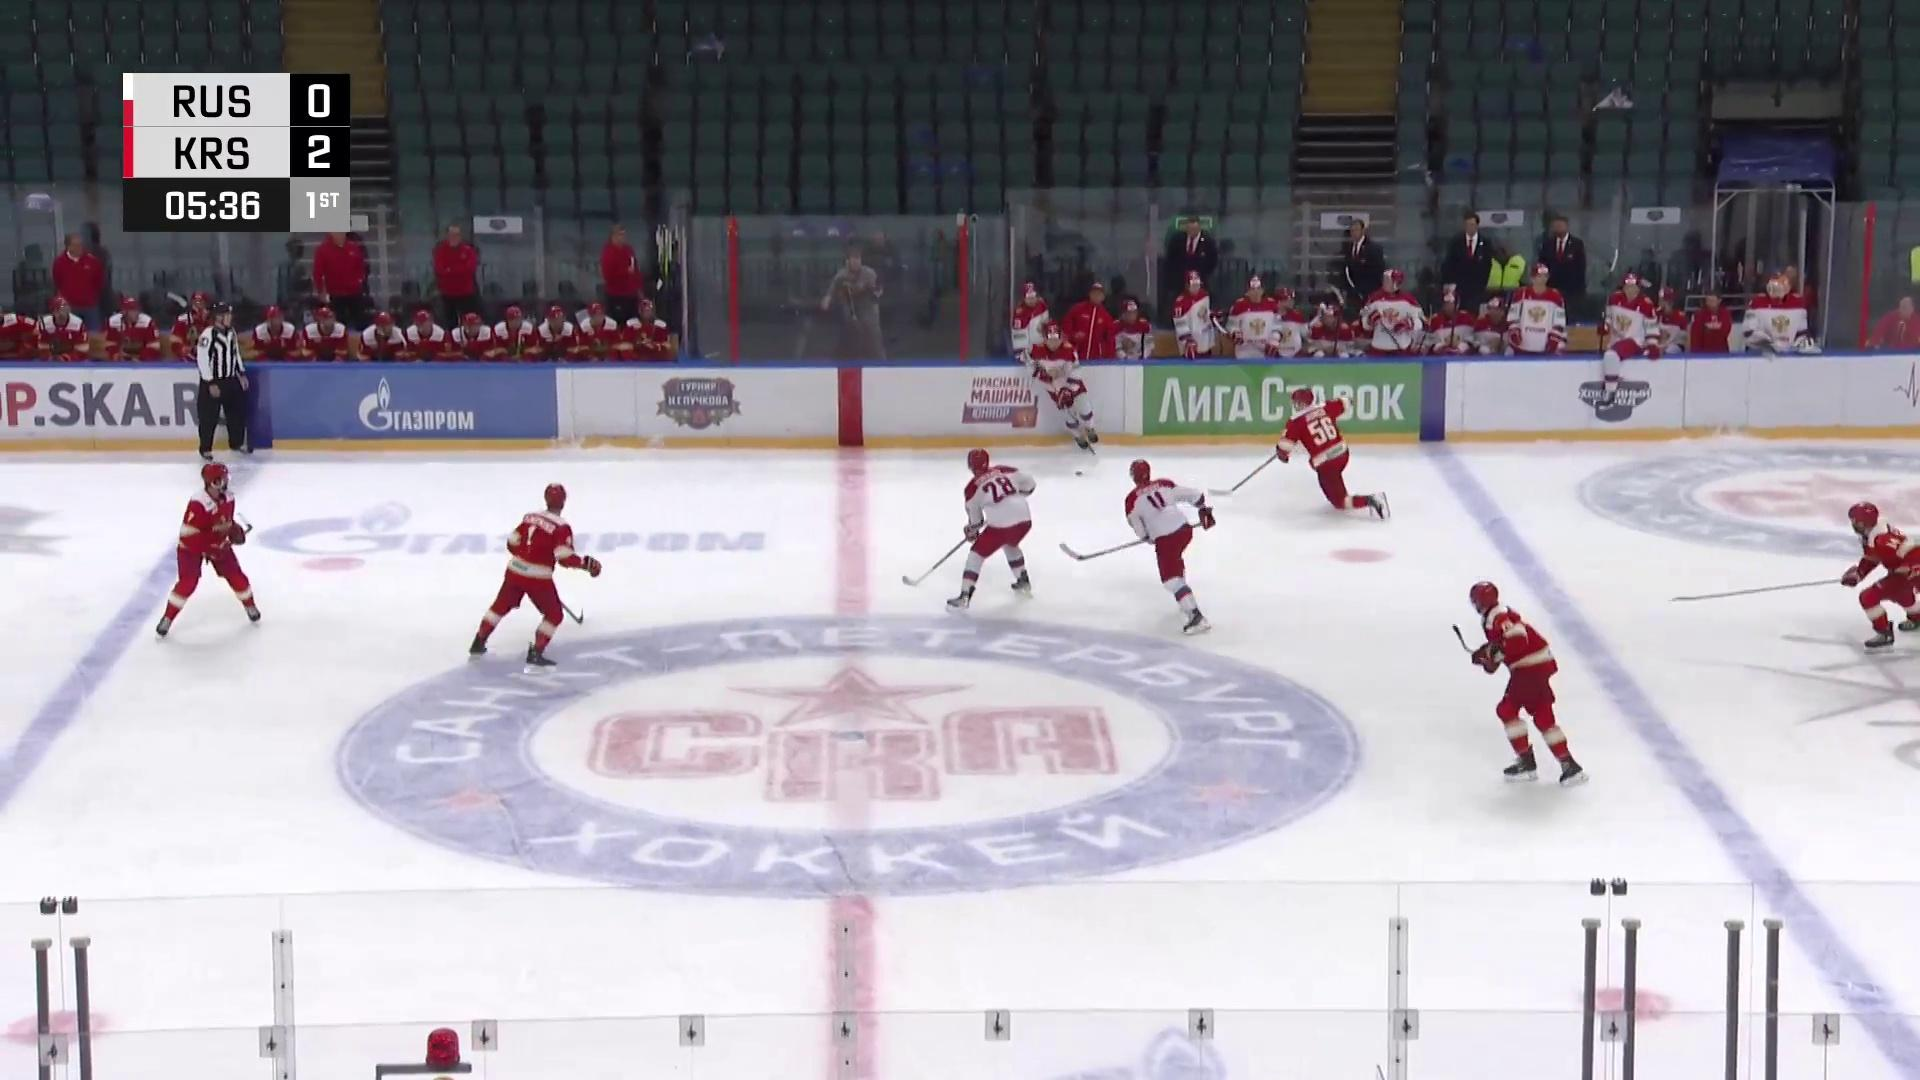ball: (1072, 468, 1087, 479)
